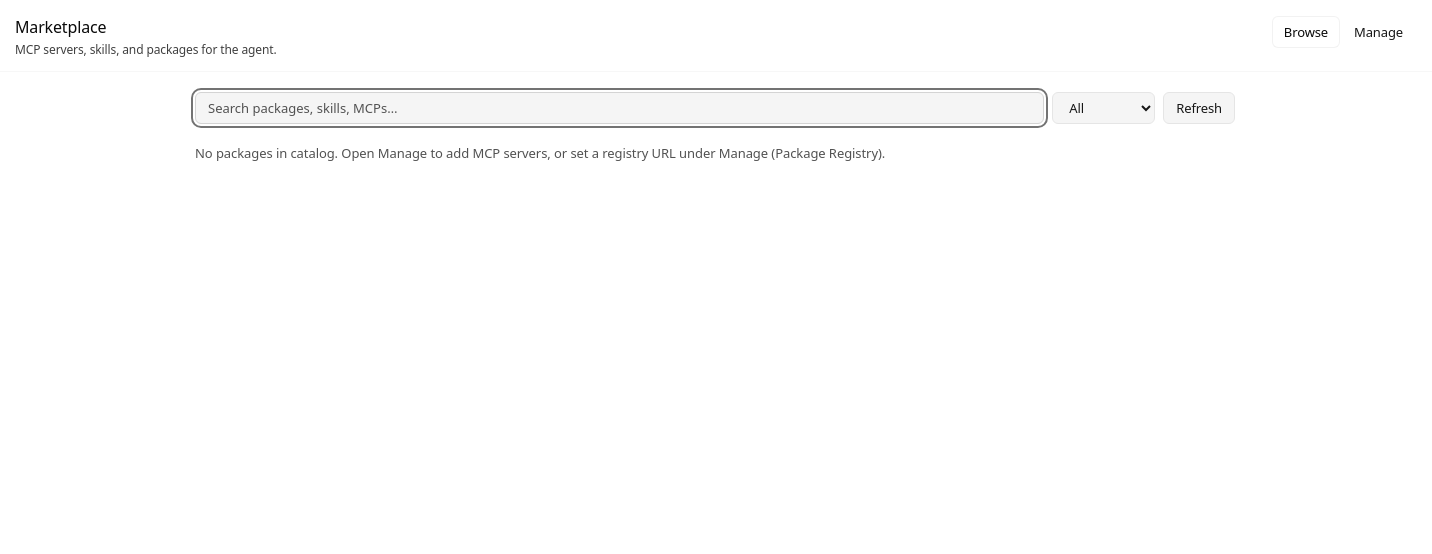
Scenario: Marketplace manage hub › does not offer Save after a skill file fails to load
What coordinates should you click on to do the following:
click the tab "Manage"
I would click on:
 (1378, 32)
Its box is [1342,16,1415,48].
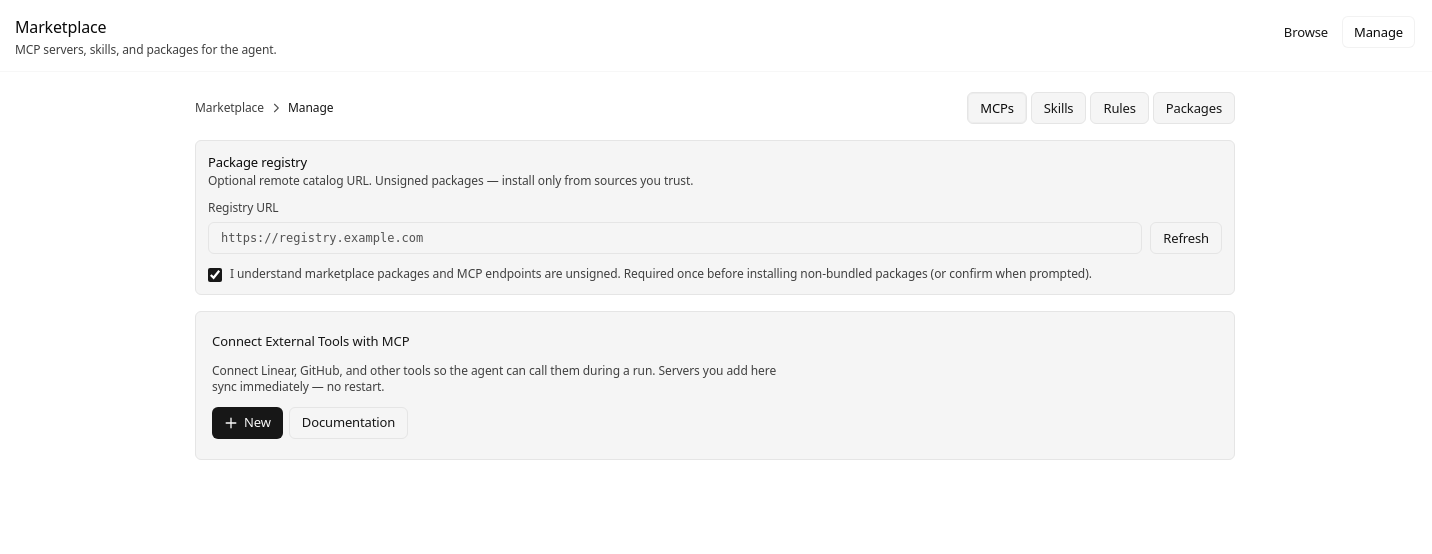
What coordinates should you click on to do the following:
click the tab "Skills"
I would click on:
 (1059, 108)
Its box is [1031,92,1086,124].
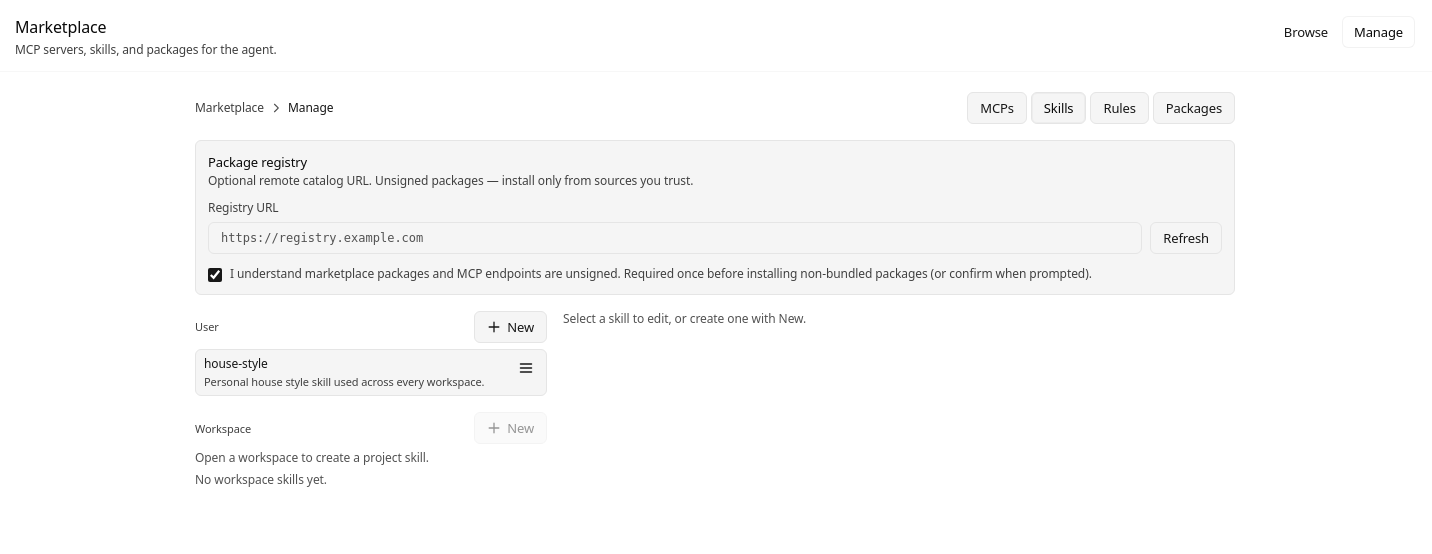
What coordinates should you click on to do the following:
click the text "house-style"
I would click on:
 (236, 364)
Its box is [204,355,268,372].
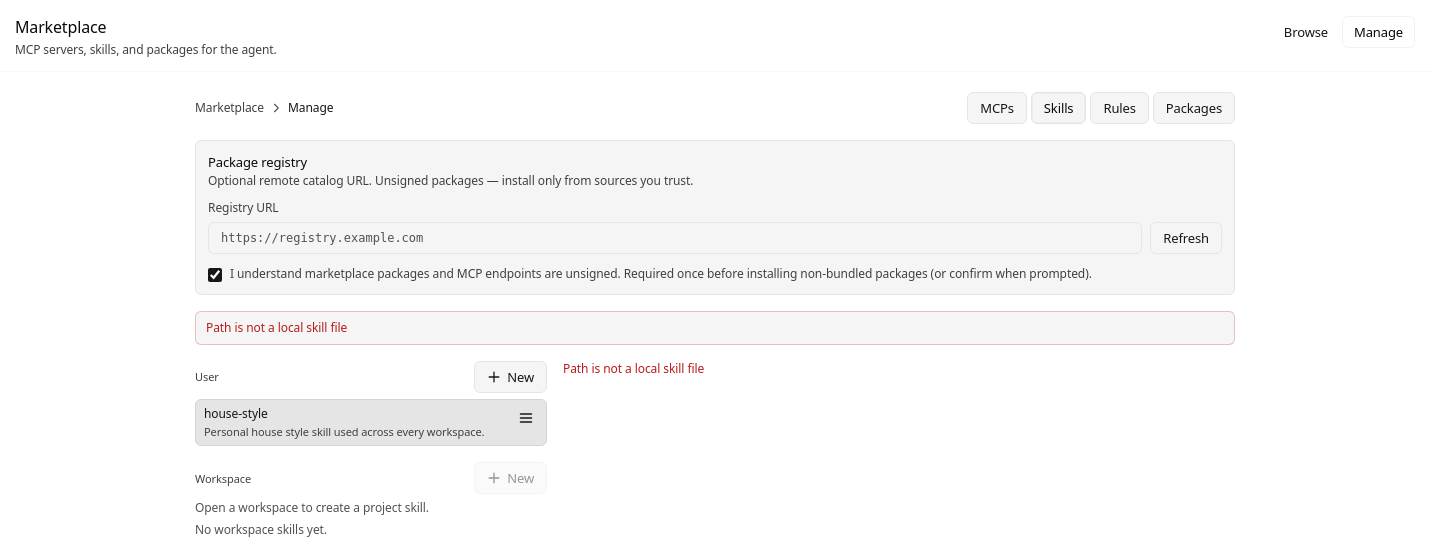
Now the 1st text "Path is not a local skill file" is shown, box [195,311,1235,345]
